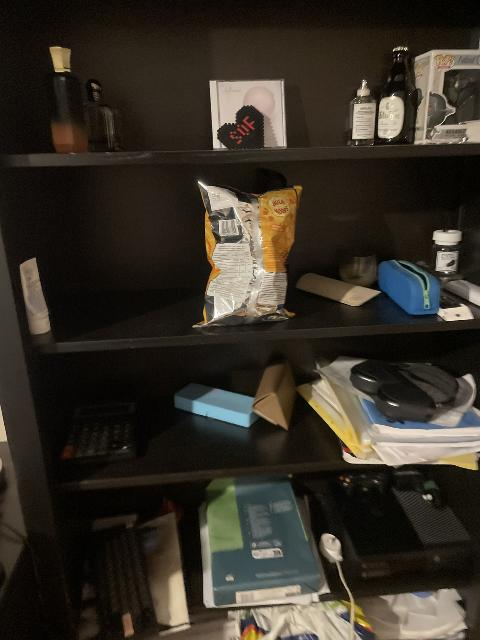Chio Hula Hoops Cheese 70g: (191, 181, 300, 327)
